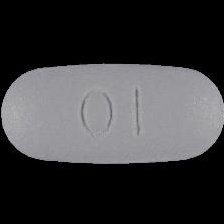0456-3210: (0, 0, 224, 224)
